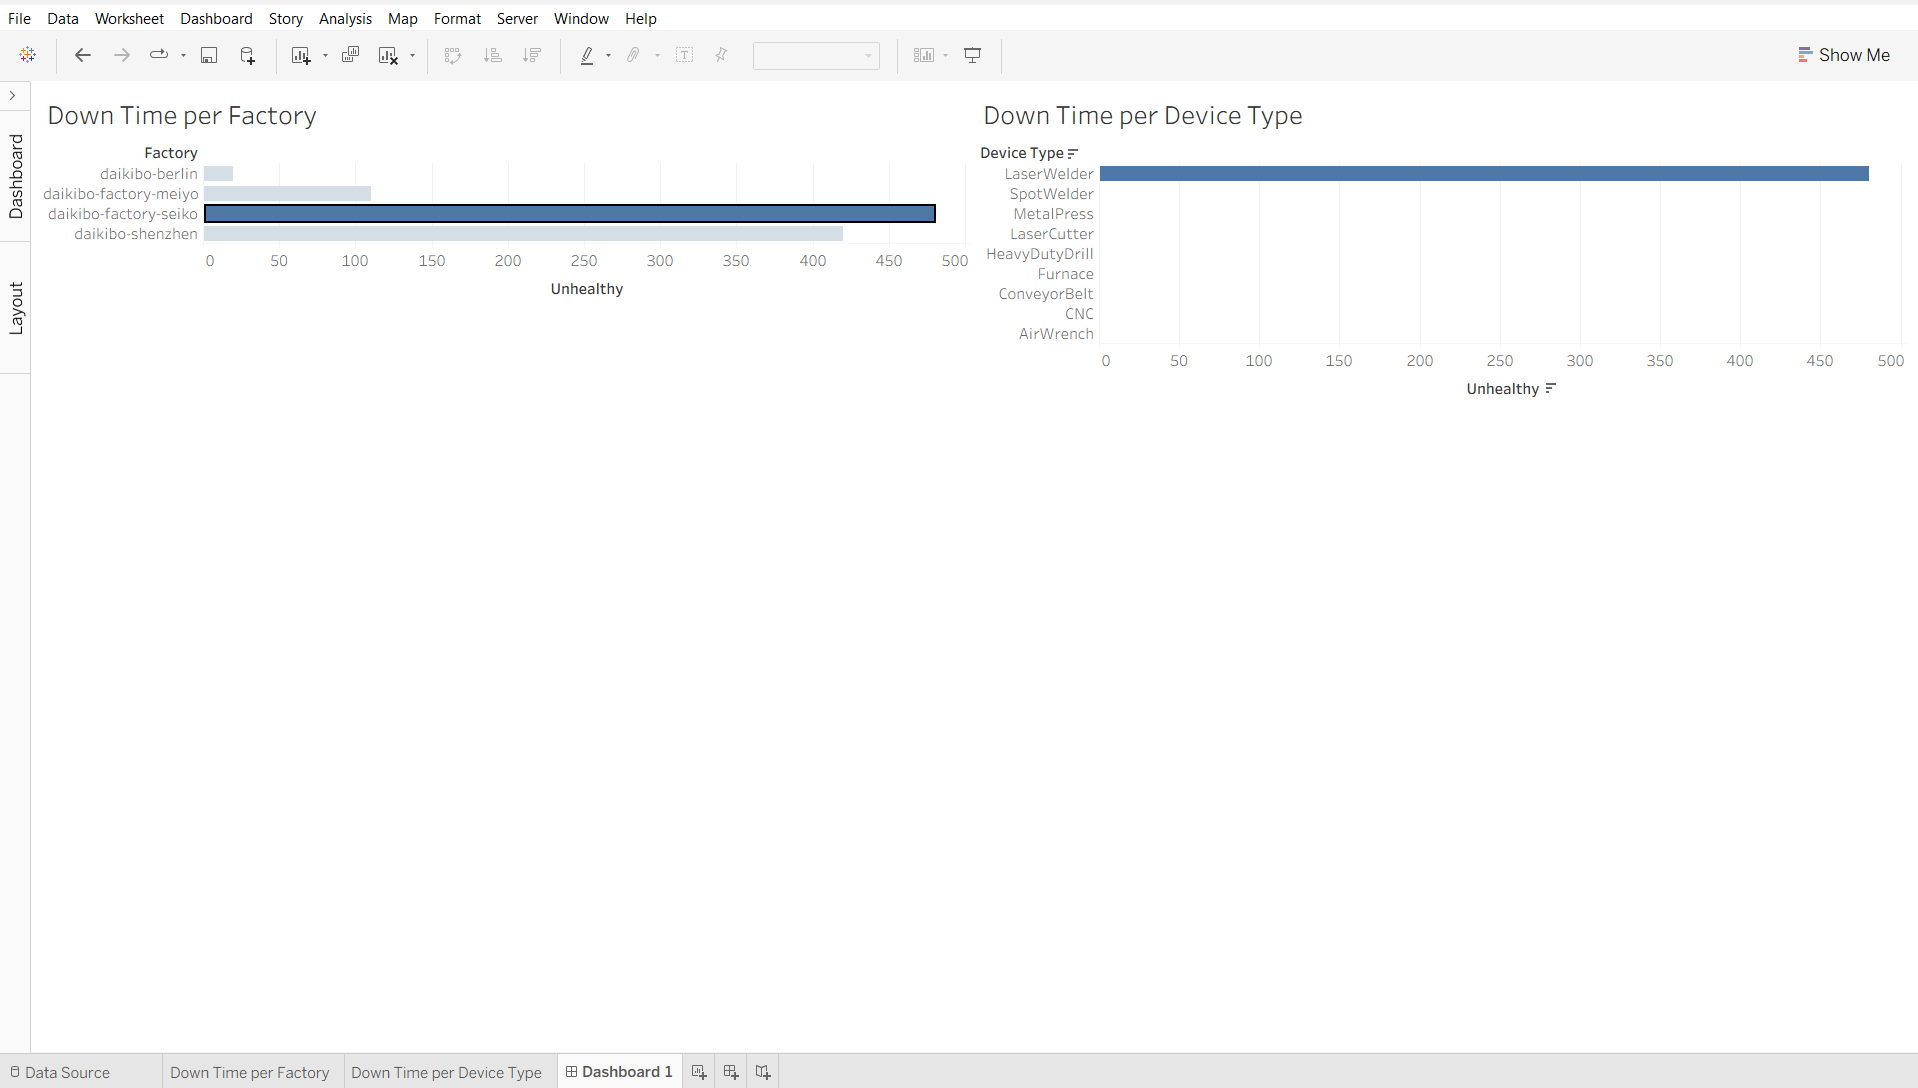

Layout of this report page (visuals, bound fields, positions):
{"tool":"tableau","page":{"name":"Dashboard 1","canvas":[1000,1000],"units":"permille","ordinal":0},"visuals":[{"type":"worksheet","title":"Down Time per Factory","mark":"Bar","rows":["factory"],"cols":["Calculation_1260891298443264"],"box":[4.2,8.2,495.8,983.5]},{"type":"worksheet","title":"Down Time per Device Type","mark":"Automatic","rows":["deviceType"],"cols":["Calculation_1260891298443264"],"box":[500,8.2,495.8,983.5]}]}

Visuals, with their boxes on the dashboard's canvas, which has no fixed pixel size, in thousandths of its width and height (x1, y1, x2, y2). These are canvas units, not pixel positions in the 1918x1088 screenshot, which may show the page scaled, cropped or inside an application window:
"Down Time per Factory" worksheet (Bar marks): pyautogui.locateOnScreen(4, 8, 500, 992)
"Down Time per Device Type" worksheet: pyautogui.locateOnScreen(500, 8, 996, 992)
